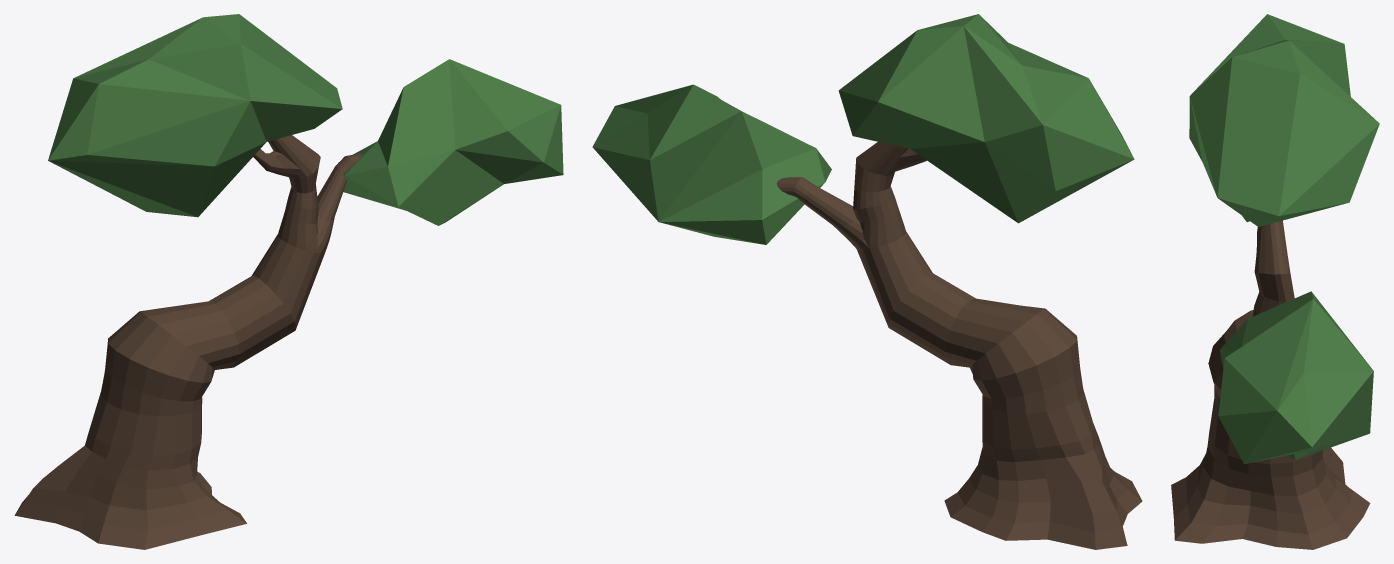
The model's file is tree crooked.fbx.
3 views of the same model, side by side, from view 1: azimuth 30°, elevation 25°; view 2: azimuth 150°, elevation 25°; view 3: azimuth 270°, elevation 25° (orthographic). The views are drawn at different scales.
Visible parts, largest first — view 1: Cylinder, Sphere.004, Sphere.005; view 2: Cylinder, Sphere.004, Sphere.005; view 3: Sphere.004, Cylinder, Sphere.005.
Part boxes in pixels (x1,y1,x2,y2): Cylinder: (14, 135, 363, 549); Sphere.004: (48, 14, 342, 217); Sphere.005: (338, 59, 563, 225); Cylinder: (776, 142, 1142, 549); Sphere.004: (838, 14, 1134, 223); Sphere.005: (592, 84, 831, 244); Sphere.004: (1189, 14, 1379, 226); Cylinder: (1171, 220, 1370, 549); Sphere.005: (1218, 291, 1373, 464).
Bounding box in the file's own units: 509 × 423 × 159.
